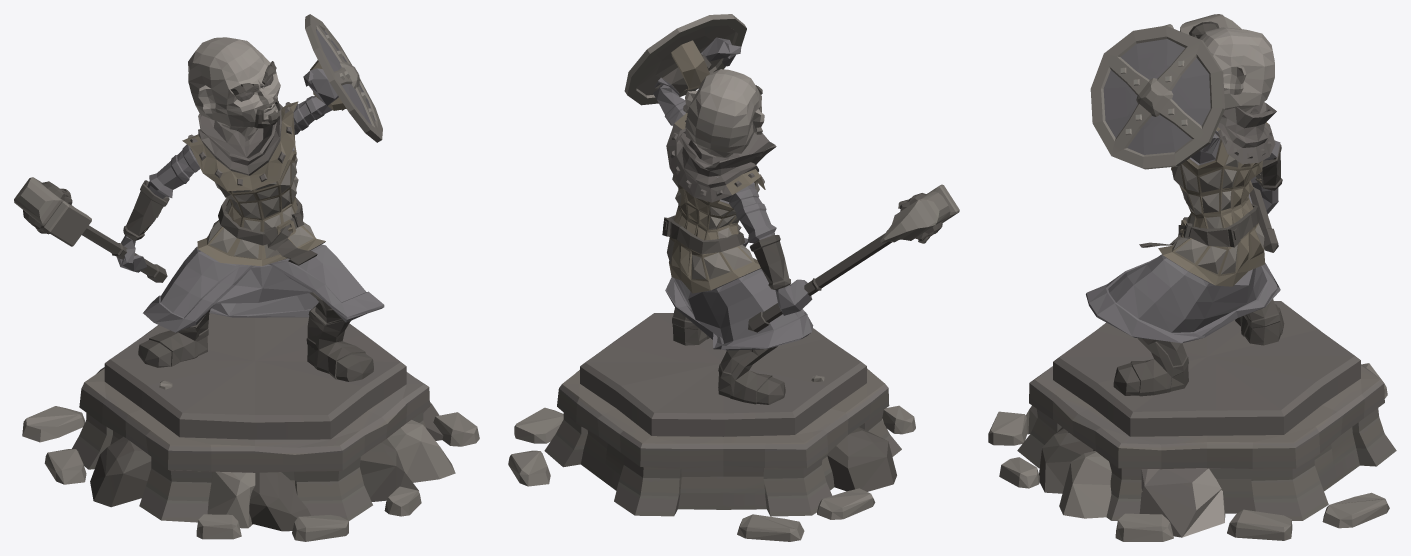
Rendered from tempStoneHero.fbx.
3 renders of one model, left to right at view 1: azimuth 30°, elevation 25°; view 2: azimuth 150°, elevation 25°; view 3: azimuth 270°, elevation 25°, orthographic. The views are drawn at different scales.
Parts seen in each view (by area): view 1: tempStoneHero; view 2: tempStoneHero; view 3: tempStoneHero.
Part boxes in pixels (<box>): tempStoneHero: <box>14,14,479,541</box>; tempStoneHero: <box>508,14,959,541</box>; tempStoneHero: <box>988,14,1396,541</box>.
Size of the model in its own units: 3 by 3.02 by 2.51.
